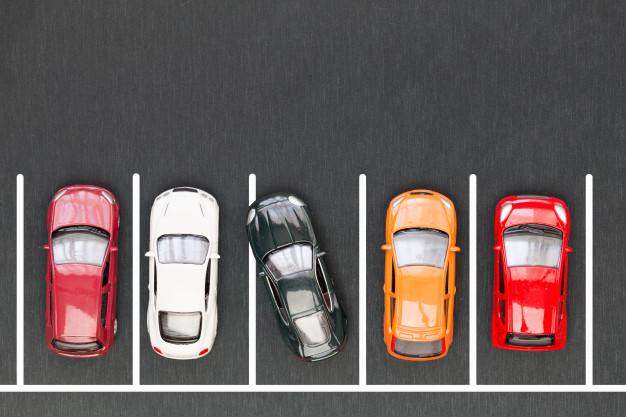car: (242, 191, 351, 367), (141, 182, 227, 366), (41, 183, 121, 363), (379, 186, 459, 363), (490, 192, 571, 357)
